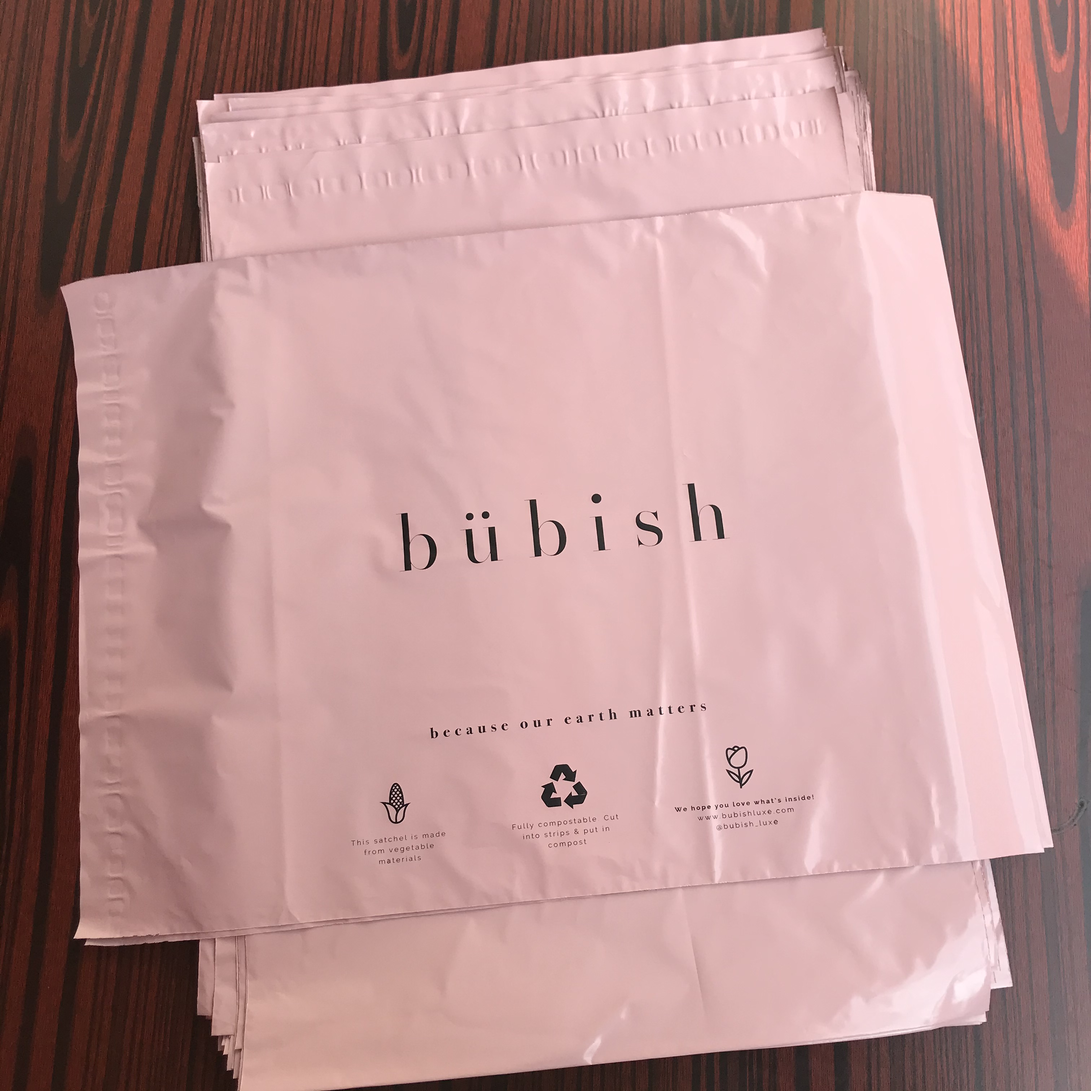塑料袋: (64, 197, 1049, 939)
